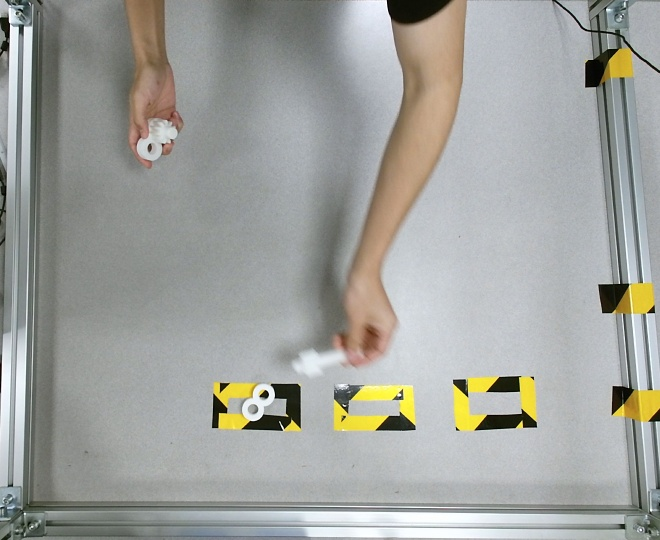stage_2: (136, 117, 178, 160)
